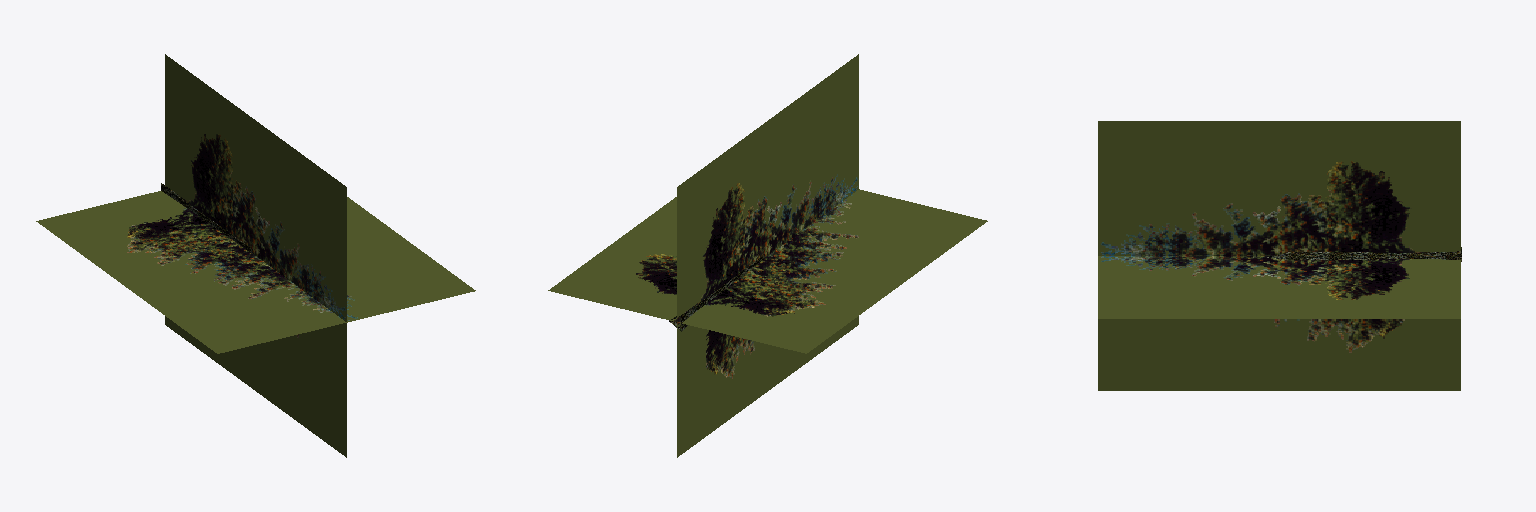
The picture shows the model from 3 angles: view 1: azimuth 30°, elevation 25°; view 2: azimuth 150°, elevation 25°; view 3: azimuth 270°, elevation 25°; orthographic projection.
Bounding box in the file's own units: 22.09 × 22.09 × 26.91.
2 materials, 2 textured.